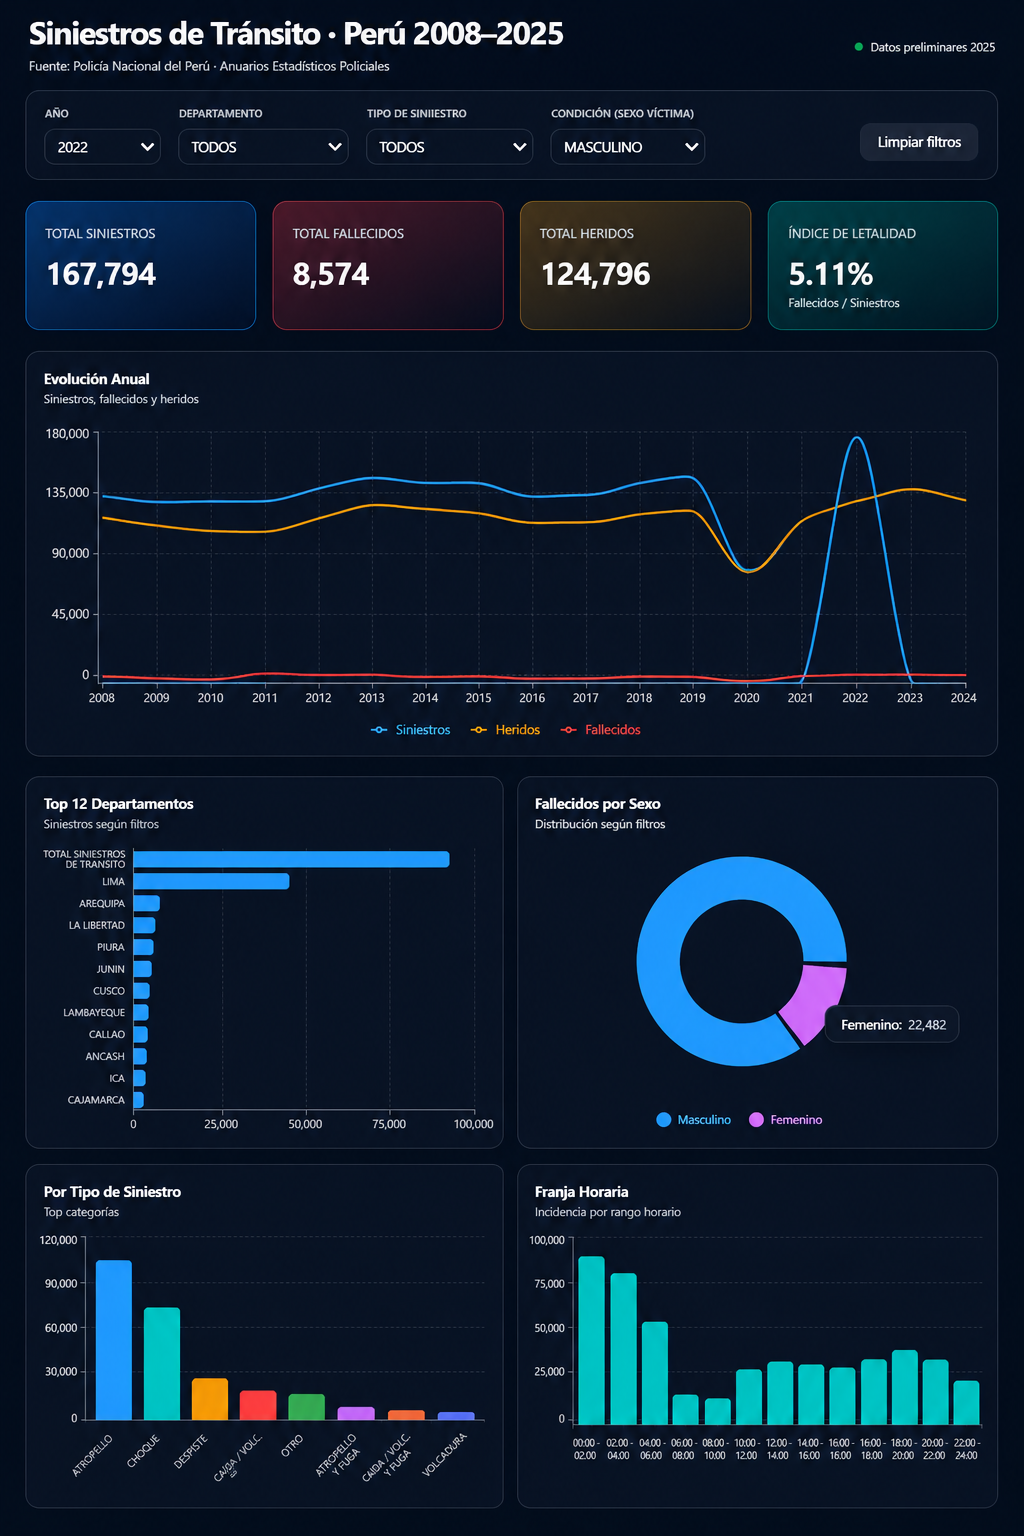

Layout of this report page (visuals, bound fields, positions):
{"tool":"powerbi","page":{"name":"Página 1","canvas":[1280,720],"ordinal":0},"visuals":[{"type":"shape","box":[144,96,1136,625],"z":0},{"type":"shape","box":[939.9,620.7,22.4,14.7],"z":0,"group":"g1"},{"type":"shape","box":[0,0,1280,95],"z":1000},{"type":"shape","box":[960.9,620.7,22.4,14.7],"z":1000,"group":"g1"},{"type":"textbox","box":[208,32,1072,160],"z":2000},{"type":"shape","box":[982,620.7,22.4,14.7],"z":2000,"group":"g1"},{"type":"shape","box":[0,96,144,624],"z":3000},{"type":"shape","box":[1003.1,620.7,22.4,14.7],"z":3000,"group":"g1"},{"type":"textbox","box":[40,128,128,64],"z":4000},{"type":"shape","box":[1024.2,620.7,22.4,14.7],"z":4000,"group":"g1"},{"type":"textbox","box":[40,192,128,64],"z":5000},{"type":"shape","box":[1045.3,620.7,22.4,14.7],"z":5000,"group":"g1"},{"type":"textbox","box":[40,256,128,64],"z":6000},{"type":"textbox","box":[898.2,628.7,232,56],"z":6000,"group":"g1"},{"type":"textbox","box":[40,320,128,64],"z":7000},{"type":"textbox","box":[40,384,128,64],"z":8000},{"type":"textbox","box":[40,448,128,64],"z":9000},{"type":"textbox","box":[40,512,128,64],"z":10000},{"type":"shape","box":[0,120,16,48],"z":11000},{"type":"slicer","fields":{"Values":["Fact_Siniestros_Region.Año"]},"box":[160,104,240,64],"z":12000},{"type":"slicer","fields":{"Values":["Fact_Siniestros_Region.DEPARTAMENTO"]},"box":[472,104,208,64],"z":13000},{"type":"slicer","fields":{"Values":["Fact_Siniestros_Tipo.Tipo_Siniestro"]},"box":[752,104,224,64],"z":14000},{"type":"slicer","fields":{"Values":["Fact_Victimas.Condicion"]},"box":[1056,104,208,64],"z":15000},{"type":"cardVisual","fields":{"Data":["Fact_Siniestros_Region.Total Fallecidos"]},"box":[432,176,256,96],"z":16000},{"type":"cardVisual","fields":{"Data":["Fact_Siniestros_Region.Total Siniestros"]},"box":[160,176,264,96],"z":17000},{"type":"cardVisual","fields":{"Data":["Fact_Siniestros_Region.Total Heridos"]},"box":[704,176,272,96],"z":18000},{"type":"cardVisual","fields":{"Data":["Fact_Siniestros_Region.Regiones Reportadas"]},"box":[1008,176,272,96],"z":19000},{"type":"lineChart","title":"       Evolución anual de siniestros","fields":{"Category":["Fact_Siniestros_Region.Año"],"Y":["Sum(Fact_Siniestros_Region.Total_Siniestros)"]},"box":[160,280,432,176],"z":20000},{"type":"azureMap","title":"Distribución geográfica de siniestros","fields":{"Category":["Fact_Siniestros_Region.Ubicacion_Mapa"],"Size":["Fact_Siniestros_Region.Total Siniestros"]},"box":[608,280,288,208],"z":21000},{"type":"clusteredBarChart","title":"Top departamentos con más siniestros","fields":{"Category":["Fact_Siniestros_Region.Departamento"],"Y":["Fact_Siniestros_Region.Total Siniestros"]},"box":[912,280,352,208],"z":22000},{"type":"donutChart","title":"Tipo de siniestro","fields":{"Category":["Fact_Siniestros_Tipo.Tipo_Siniestro"],"Y":["Sum(Fact_Siniestros_Tipo.Cantidad)"]},"box":[160,464,304,224],"z":23000},{"type":"pivotTable","title":"Comparativo mensual de siniestros 2023-2025","fields":{"Rows":["Fact_Siniestros_Mensual.Año"],"Values":["Sum(Fact_Siniestros_Mensual.Siniestros)"],"Columns":["Dim_Meses.Mes_Corto"]},"box":[786.2,492.7,480,176],"z":24000},{"type":"columnChart","title":"Fallecidos y heridos por año","fields":{"Category":["Fact_Victimas.Año"],"Series":["Fact_Victimas.Condicion"],"Y":["Sum(Fact_Victimas.Cantidad)"]},"box":[472,496,304,192],"z":25000},{"type":"group","id":"g1","title":"Grupo 1","box":[898.2,620.7,232,64],"z":26000},{"type":"shape","box":[176,16,16,64],"z":27000},{"type":"image","box":[192,280,32,32],"z":28000},{"type":"image","box":[320,112,96,48],"z":29000},{"type":"image","box":[832,280,48,48],"z":30000},{"type":"image","box":[624,112,64,48],"z":31000},{"type":"image","box":[800,8,480,88],"z":32000},{"type":"image","box":[912,104,53,61],"z":33000},{"type":"image","box":[1208,112,48,56],"z":34000},{"type":"image","box":[728,480,48,64],"z":35000},{"type":"image","box":[912,272,32,48],"z":36000},{"type":"image","box":[8,152,32,112],"z":37000},{"type":"image","box":[0,416,40,96],"z":38000},{"type":"image","box":[0,496,40,64],"z":39000},{"type":"image","box":[0,248,45,45],"z":40000},{"type":"image","box":[8,128,32,32],"z":41000},{"type":"image","box":[0,352,42,85],"z":42000},{"type":"image","box":[8,304,40,56],"z":43000},{"type":"image","box":[272,456,72,40],"z":44000},{"type":"textbox","box":[208,8,1071,144],"z":45000},{"type":"image","box":[0,16,192,64],"z":46000}]}

Visuals, with their boxes on the page's 1280x720 design canvas (x1, y1, x2, y2). These are canvas units, not pixel positions in the 1024x1536 screenshot, which may show the page scaled, cropped or inside an application window:
shape: x1=144, y1=96, x2=1280, y2=721
shape: x1=940, y1=621, x2=962, y2=635
shape: x1=0, y1=0, x2=1280, y2=95
shape: x1=961, y1=621, x2=983, y2=635
textbox: x1=208, y1=32, x2=1280, y2=192
shape: x1=982, y1=621, x2=1004, y2=635
shape: x1=0, y1=96, x2=144, y2=720
shape: x1=1003, y1=621, x2=1026, y2=635
textbox: x1=40, y1=128, x2=168, y2=192
shape: x1=1024, y1=621, x2=1047, y2=635
textbox: x1=40, y1=192, x2=168, y2=256
shape: x1=1045, y1=621, x2=1068, y2=635
textbox: x1=40, y1=256, x2=168, y2=320
textbox: x1=898, y1=629, x2=1130, y2=685
textbox: x1=40, y1=320, x2=168, y2=384
textbox: x1=40, y1=384, x2=168, y2=448
textbox: x1=40, y1=448, x2=168, y2=512
textbox: x1=40, y1=512, x2=168, y2=576
shape: x1=0, y1=120, x2=16, y2=168
slicer - Fact_Siniestros_Region.Año: x1=160, y1=104, x2=400, y2=168
slicer - Fact_Siniestros_Region.DEPARTAMENTO: x1=472, y1=104, x2=680, y2=168
slicer - Fact_Siniestros_Tipo.Tipo_Siniestro: x1=752, y1=104, x2=976, y2=168
slicer - Fact_Victimas.Condicion: x1=1056, y1=104, x2=1264, y2=168
cardVisual - Fact_Siniestros_Region.Total Fallecidos: x1=432, y1=176, x2=688, y2=272
cardVisual - Fact_Siniestros_Region.Total Siniestros: x1=160, y1=176, x2=424, y2=272
cardVisual - Fact_Siniestros_Region.Total Heridos: x1=704, y1=176, x2=976, y2=272
cardVisual - Fact_Siniestros_Region.Regiones Reportadas: x1=1008, y1=176, x2=1280, y2=272
"       Evolución anual de siniestros" lineChart: x1=160, y1=280, x2=592, y2=456
"Distribución geográfica de siniestros" azureMap: x1=608, y1=280, x2=896, y2=488
"Top departamentos con más siniestros" clusteredBarChart: x1=912, y1=280, x2=1264, y2=488
"Tipo de siniestro" donutChart: x1=160, y1=464, x2=464, y2=688
"Comparativo mensual de siniestros 2023-2025" pivotTable: x1=786, y1=493, x2=1266, y2=669
"Fallecidos y heridos por año" columnChart: x1=472, y1=496, x2=776, y2=688
"Grupo 1" group: x1=898, y1=621, x2=1130, y2=685
shape: x1=176, y1=16, x2=192, y2=80
image: x1=192, y1=280, x2=224, y2=312
image: x1=320, y1=112, x2=416, y2=160
image: x1=832, y1=280, x2=880, y2=328
image: x1=624, y1=112, x2=688, y2=160
image: x1=800, y1=8, x2=1280, y2=96
image: x1=912, y1=104, x2=965, y2=165
image: x1=1208, y1=112, x2=1256, y2=168
image: x1=728, y1=480, x2=776, y2=544
image: x1=912, y1=272, x2=944, y2=320
image: x1=8, y1=152, x2=40, y2=264
image: x1=0, y1=416, x2=40, y2=512
image: x1=0, y1=496, x2=40, y2=560
image: x1=0, y1=248, x2=45, y2=293
image: x1=8, y1=128, x2=40, y2=160
image: x1=0, y1=352, x2=42, y2=437
image: x1=8, y1=304, x2=48, y2=360
image: x1=272, y1=456, x2=344, y2=496
textbox: x1=208, y1=8, x2=1279, y2=152
image: x1=0, y1=16, x2=192, y2=80
